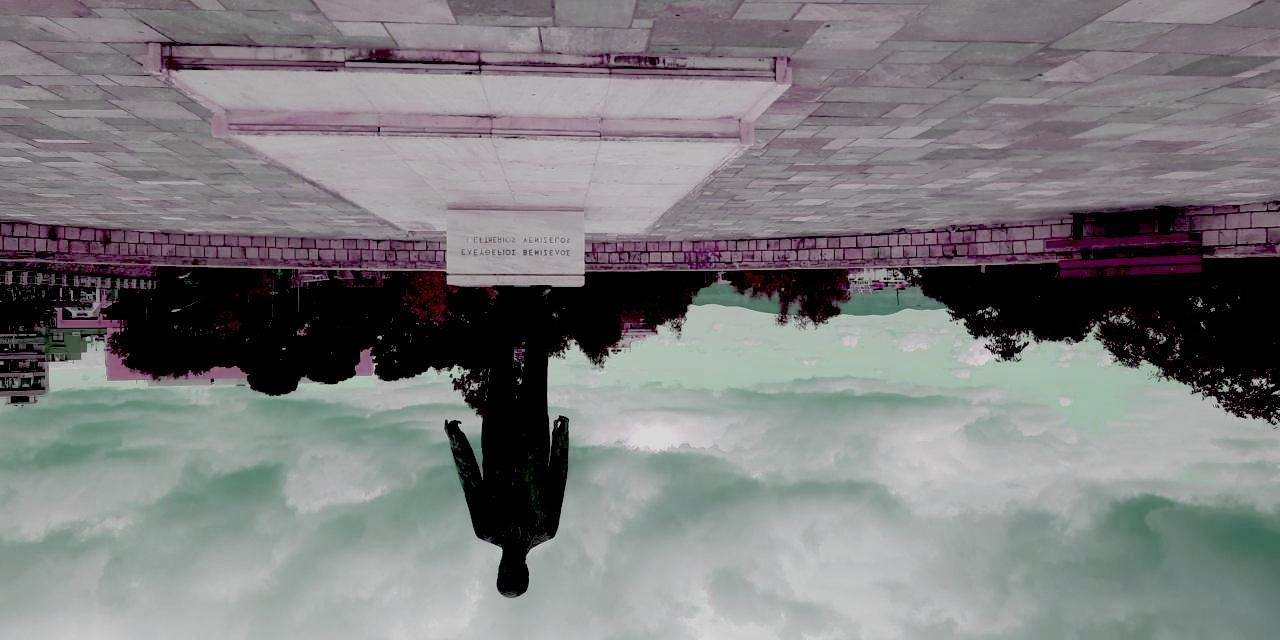Venizelos: (447, 285, 575, 601)
